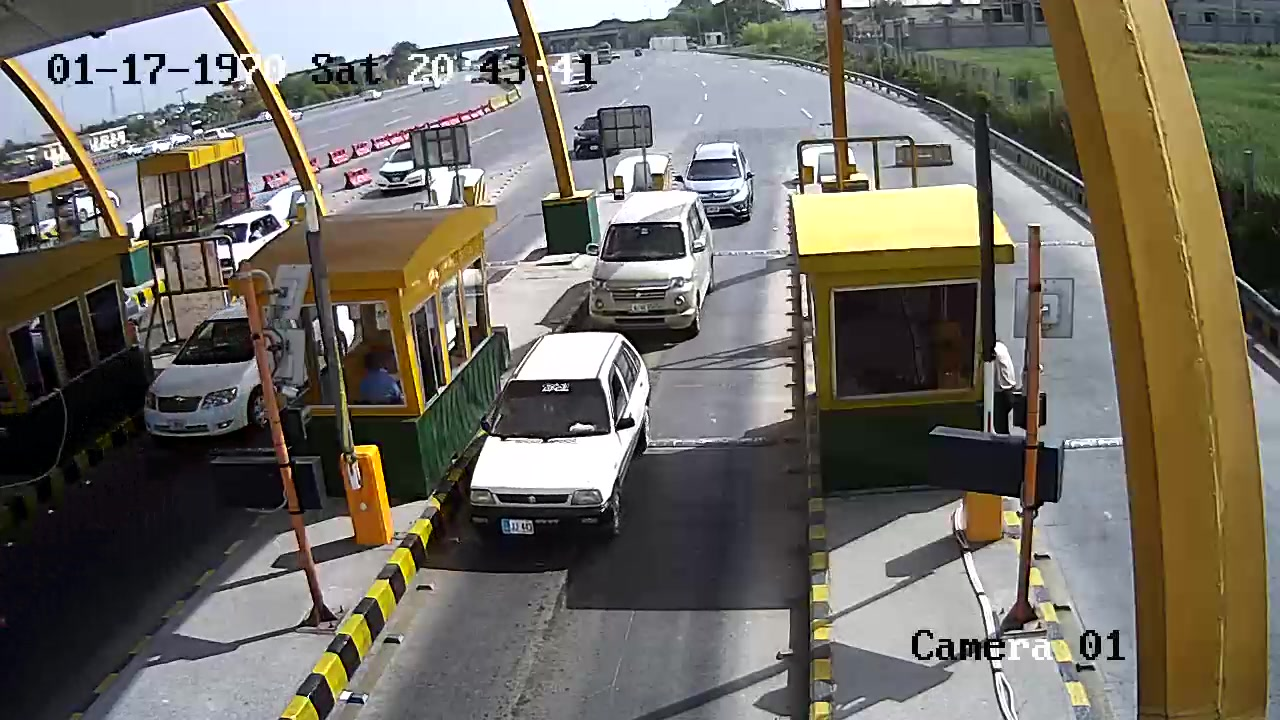F1: (463, 328, 653, 548)
